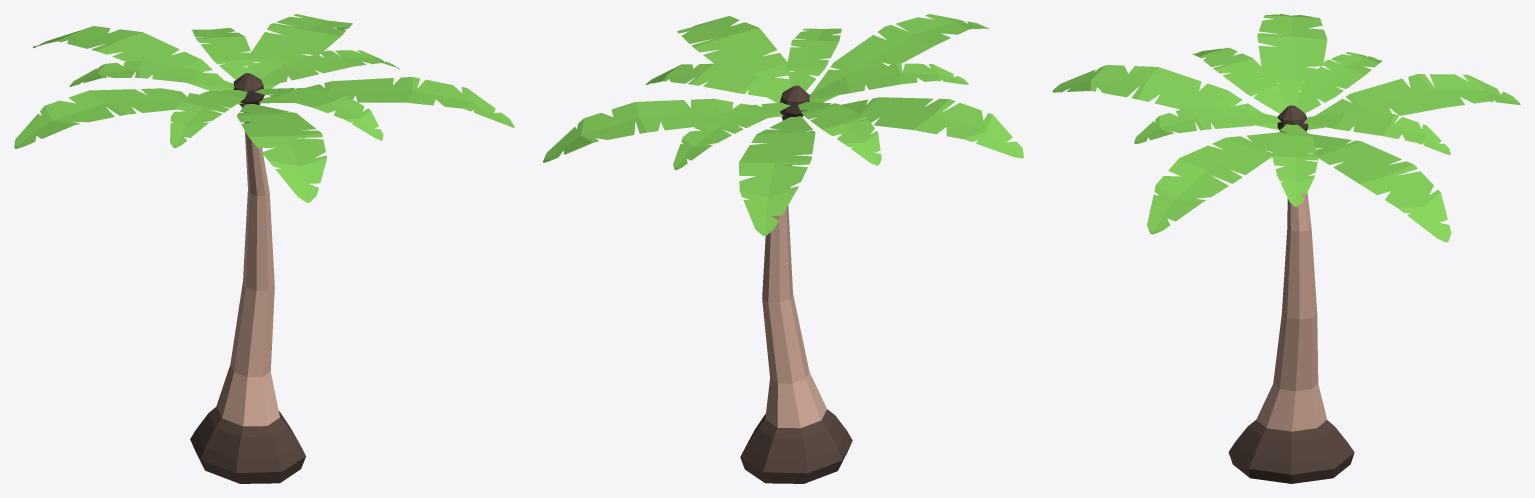
The model's file is PalmTree1.fbx.
The picture shows the model from 3 angles, left to right: view 1: azimuth 30°, elevation 25°; view 2: azimuth 150°, elevation 25°; view 3: azimuth 270°, elevation 25°; orthographic projection. The views are drawn at different scales.
Parts seen in each view (by area): view 1: Plane.001, Cylinder, Plane.002; view 2: Plane.001, Cylinder, Plane.002; view 3: Plane.001, Cylinder, Plane.002.
Boxes of the visible parts, x1=… form: Plane.001: x1=14, y1=14, x2=514, y2=202; Cylinder: x1=190, y1=73, x2=305, y2=483; Plane.002: x1=14, y1=15, x2=514, y2=202; Plane.001: x1=543, y1=14, x2=1023, y2=235; Cylinder: x1=740, y1=85, x2=852, y2=483; Plane.002: x1=543, y1=15, x2=1023, y2=235; Plane.001: x1=1052, y1=14, x2=1520, y2=241; Cylinder: x1=1228, y1=105, x2=1354, y2=483; Plane.002: x1=1053, y1=14, x2=1520, y2=242.
Size of the model in its own units: 712 by 631 by 732.
